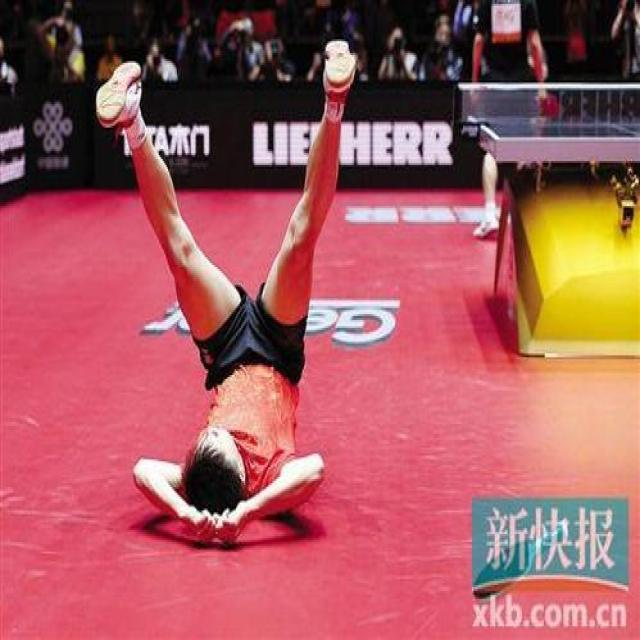10-: (0, 2, 636, 556)
down: (87, 28, 359, 552)
